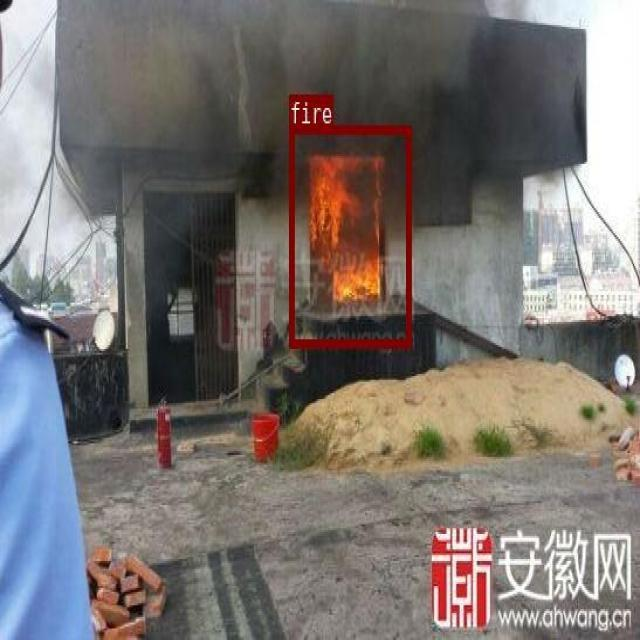fire: (289, 125, 411, 346)
